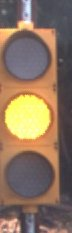Yellow: (1, 20, 63, 224)
